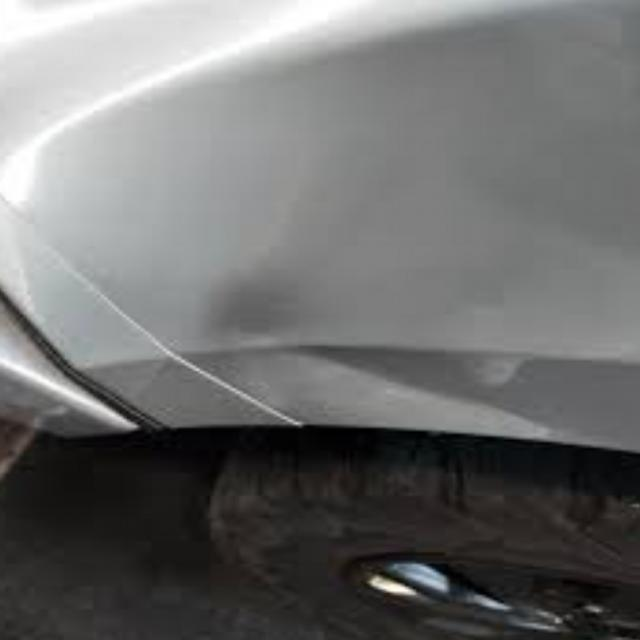dents: (193, 286, 560, 424)
